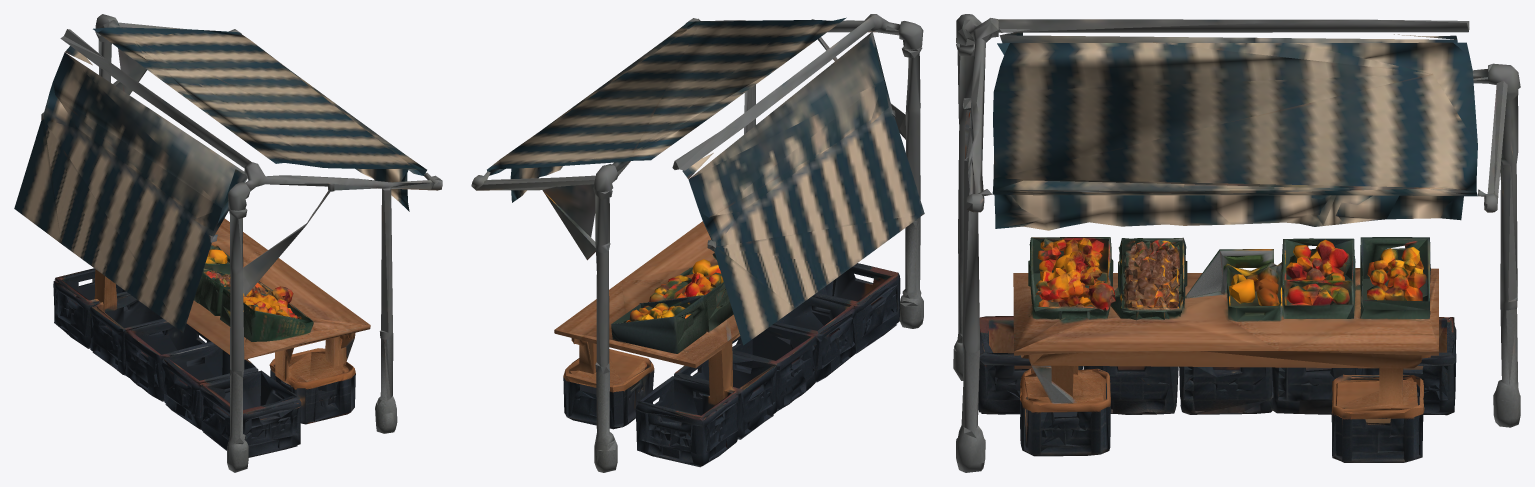
Rendered from barraca-de-feira__01a1b60e.glb.
3 renders of one model, left to right at view 1: azimuth 30°, elevation 25°; view 2: azimuth 150°, elevation 25°; view 3: azimuth 270°, elevation 25°, orthographic. The views are drawn at different scales.
Visible parts, largest first — view 1: barraca-de-feira__01a1b60e; view 2: barraca-de-feira__01a1b60e; view 3: barraca-de-feira__01a1b60e.
Boxes of the visible parts, x1,y1,x2,y2 form: barraca-de-feira__01a1b60e: (14, 14, 442, 472); barraca-de-feira__01a1b60e: (471, 14, 924, 472); barraca-de-feira__01a1b60e: (953, 14, 1520, 472).
Size of the model in its own units: 2.07 by 2.4 by 3.3.
1 material, 1 textured.
